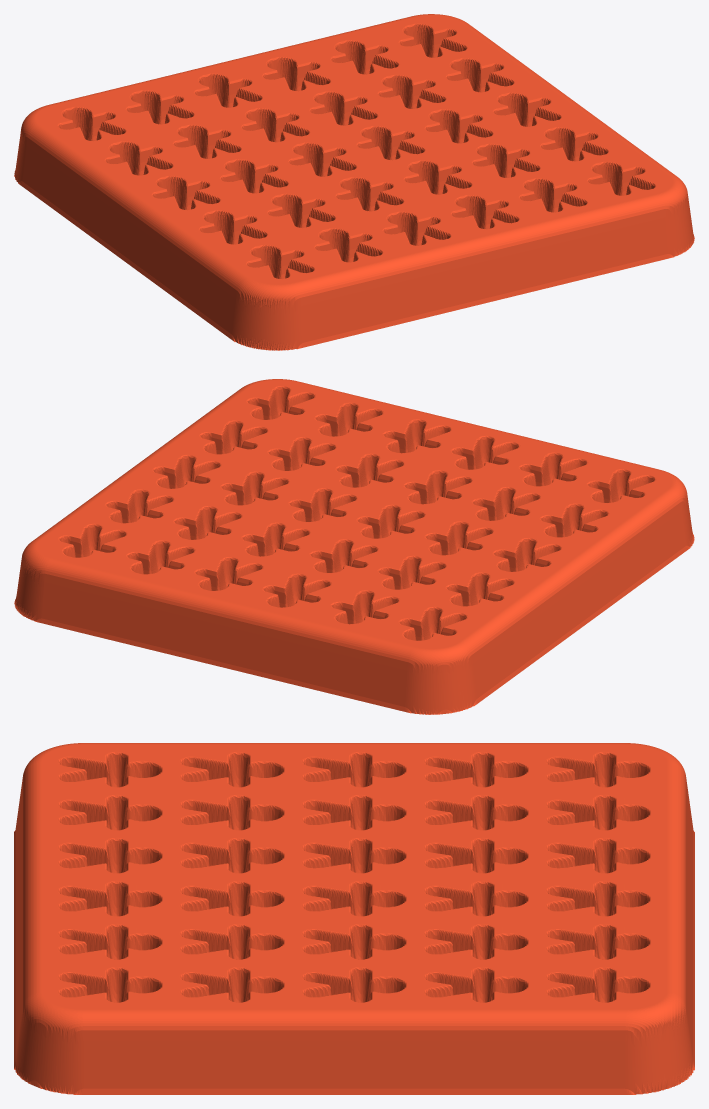
The model's file is mold.glb.
The picture shows the model from 3 angles, top to bottom: view 1: azimuth 30°, elevation 25°; view 2: azimuth 150°, elevation 25°; view 3: azimuth 270°, elevation 25°; orthographic projection. The views are drawn at different scales.
Parts seen in each view (by area): view 1: geometry_0; view 2: geometry_0; view 3: geometry_0.
Boxes of the visible parts, bbox=[...] form: geometry_0: bbox=[14, 14, 694, 350]; geometry_0: bbox=[14, 379, 694, 714]; geometry_0: bbox=[14, 743, 694, 1094].
Size of the model in its own units: 0.0884 by 0.0105 by 0.0882.
